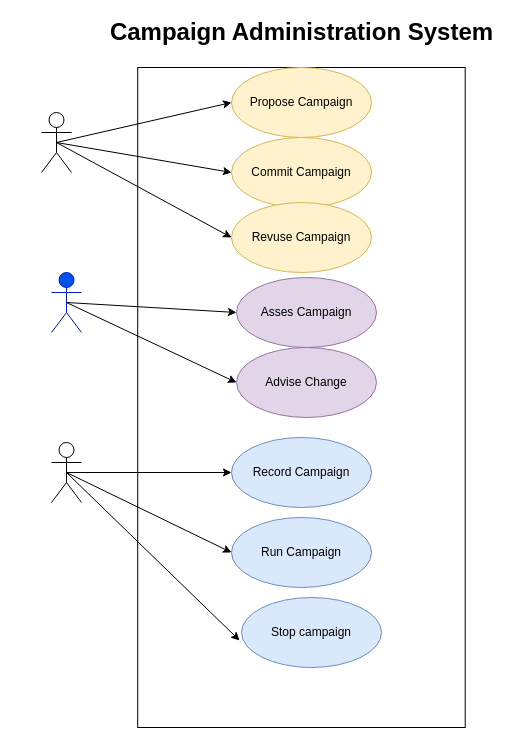
This 519x745 diagram has some shape labels left out. The shapes that lost their labels are listed below. From the top down, each one's box as (x1, y1, x2, y2) in pixels, then its label:
(40, 112, 72, 172): Customer
(50, 272, 82, 332): Technical Staff
(50, 442, 82, 502): Administritive Staff
